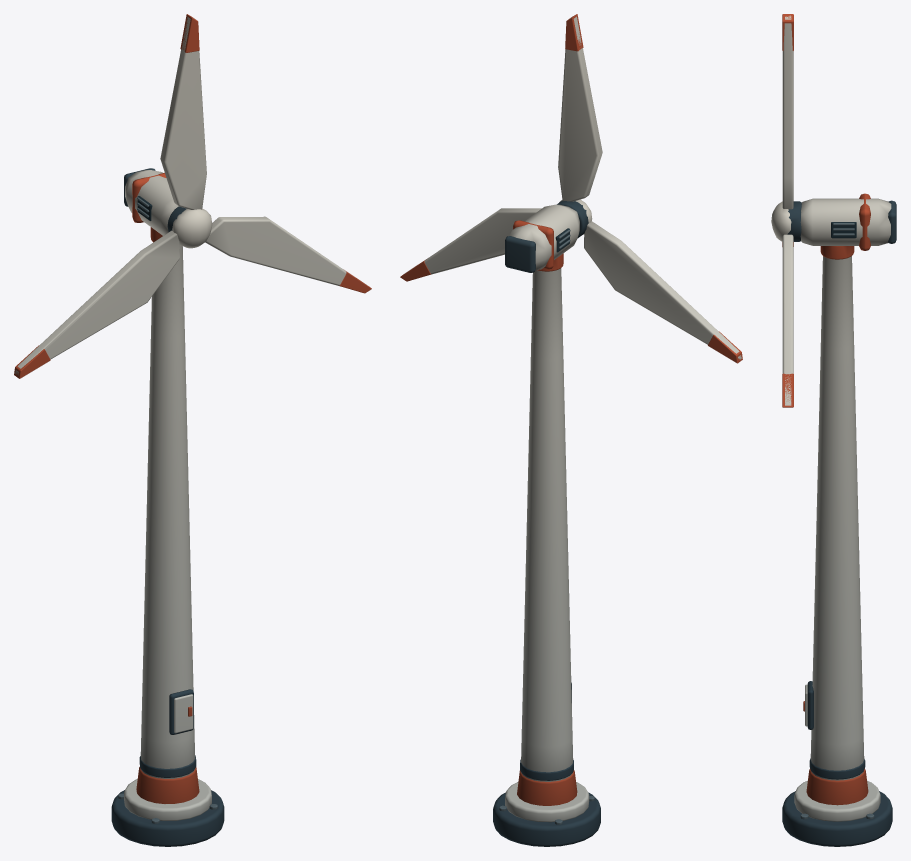
The model's file is wind_turbine.glb.
The picture shows the model from 3 angles, left to right: view 1: azimuth 30°, elevation 25°; view 2: azimuth 150°, elevation 25°; view 3: azimuth 270°, elevation 25°; orthographic projection. The views are drawn at different scales.
Visible parts, largest first — view 1: Turbine_tower, move_spin_rotor, Turbine_slate_foot, Turbine_foot_cap, Turbine_nacelle, Turbine_orange_boot, Turbine_service_panel; view 2: Turbine_tower, move_spin_rotor, Turbine_slate_foot, Turbine_nacelle, Turbine_foot_cap, Turbine_orange_boot, Turbine_rear_cap; view 3: Turbine_tower, move_spin_rotor, Turbine_nacelle, Turbine_slate_foot, Turbine_foot_cap, Turbine_orange_boot, Turbine_lower_trim, Turbine_nacelle_band, Turbine_yaw_collar, Turbine_vent_recess.001, Turbine_service_frame, Turbine_rear_cap.
Boxes of the visible parts, x1=… form: Turbine_tower: x1=140, y1=245, x2=195, y2=778; move_spin_rotor: x1=14, y1=14, x2=371, y2=378; Turbine_slate_foot: x1=111, y1=790, x2=224, y2=846; Turbine_foot_cap: x1=124, y1=779, x2=211, y2=820; Turbine_nacelle: x1=125, y1=170, x2=178, y2=235; Turbine_orange_boot: x1=136, y1=767, x2=199, y2=803; Turbine_service_panel: x1=174, y1=694, x2=193, y2=733; Turbine_tower: x1=520, y1=268, x2=573, y2=781; move_spin_rotor: x1=400, y1=14, x2=742, y2=363; Turbine_slate_foot: x1=493, y1=792, x2=600, y2=846; Turbine_nacelle: x1=509, y1=204, x2=579, y2=270; Turbine_foot_cap: x1=505, y1=782, x2=589, y2=822; Turbine_orange_boot: x1=517, y1=770, x2=577, y2=805; Turbine_rear_cap: x1=505, y1=236, x2=535, y2=272; Turbine_tower: x1=810, y1=256, x2=864, y2=780; move_spin_rotor: x1=771, y1=14, x2=801, y2=407; Turbine_nacelle: x1=800, y1=198, x2=891, y2=245; Turbine_slate_foot: x1=782, y1=791, x2=892, y2=846; Turbine_foot_cap: x1=794, y1=780, x2=880, y2=821; Turbine_orange_boot: x1=806, y1=768, x2=868, y2=805; Turbine_lower_trim: x1=809, y1=758, x2=865, y2=779; Turbine_nacelle_band: x1=859, y1=193, x2=870, y2=250; Turbine_yaw_collar: x1=820, y1=246, x2=854, y2=259; Turbine_vent_recess.001: x1=831, y1=222, x2=856, y2=238; Turbine_service_frame: x1=807, y1=681, x2=813, y2=729; Turbine_rear_cap: x1=888, y1=200, x2=896, y2=243.
Size of the model in its own units: 2.17 by 4.86 by 0.6822.
